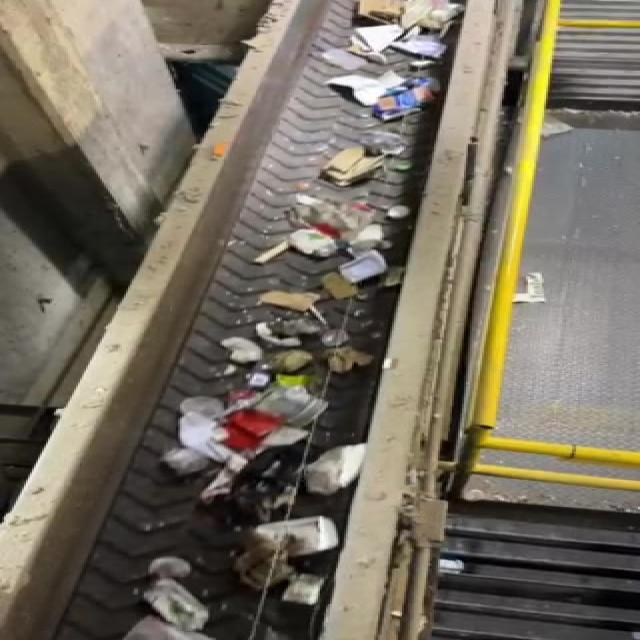pp: (252, 389, 344, 427)
ps: (249, 511, 350, 560)
